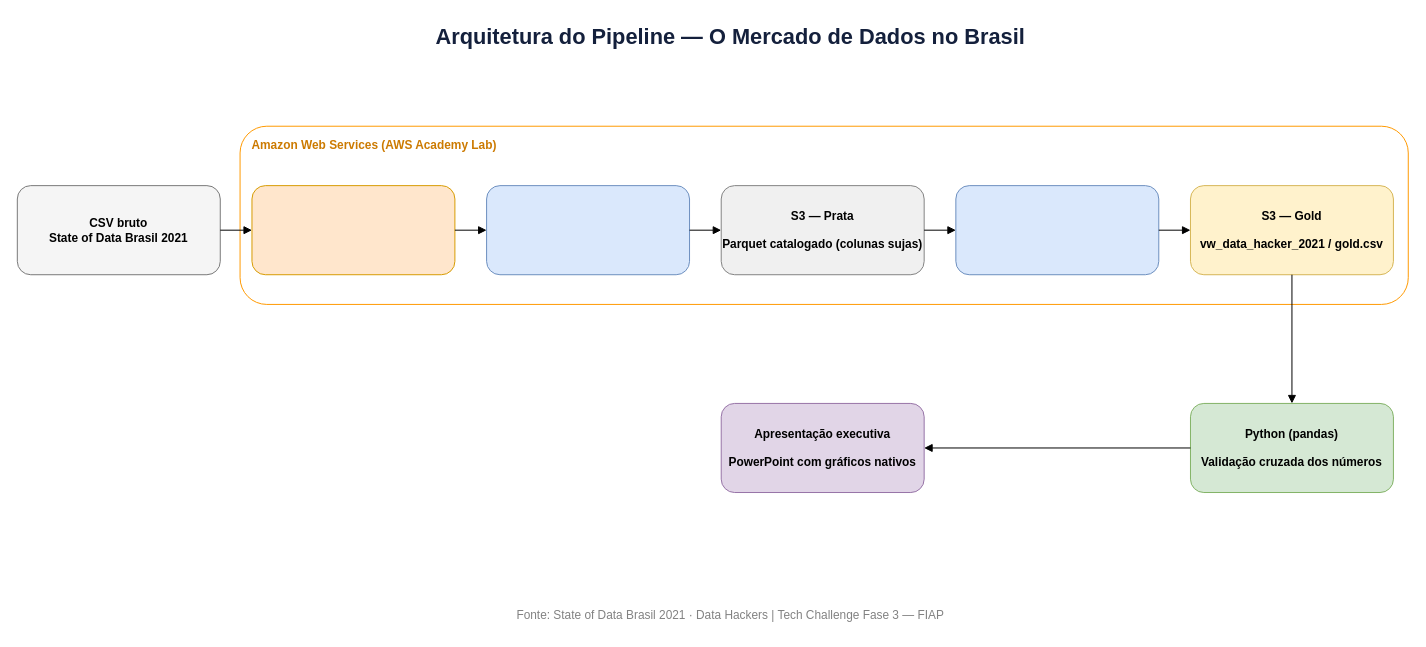
This 1426x647 diagram has some shape labels left out. The centre of each missing label's shape, as x and y in pixels:
"Amazon Athena CREATE VIEW (renomeia colunas)" goes at pixel 1057 230.
"AWS Glue Crawler + conversão Parquet" goes at pixel 588 230.
"S3 — Bronze Dado cru, sem tratamento" goes at pixel 353 230.
